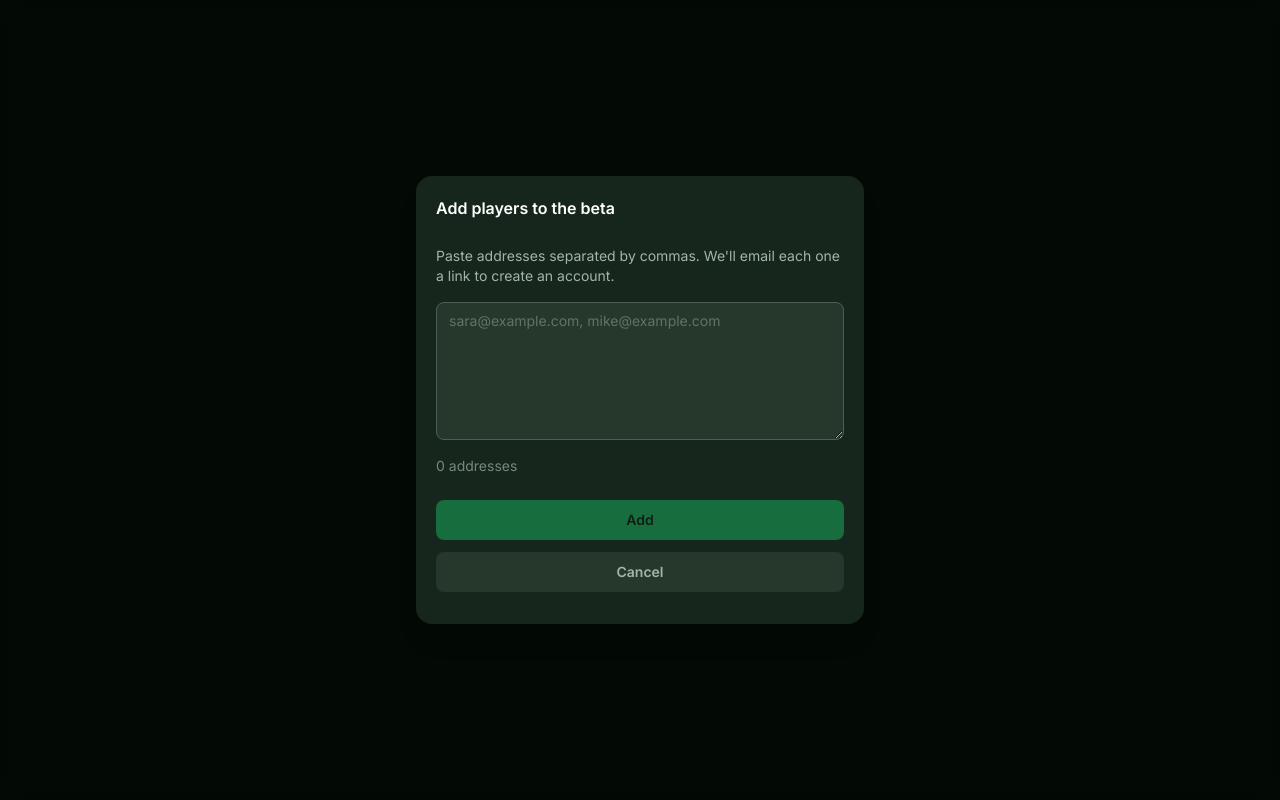
Test: Add players to the beta › emails every address it added
Step 1. Type "a@example.com, b@example.com" into the text box with placeholder "sara@example.com, mike@example.com" → (640, 371), box top-left (436, 302), bottom-right (844, 440)
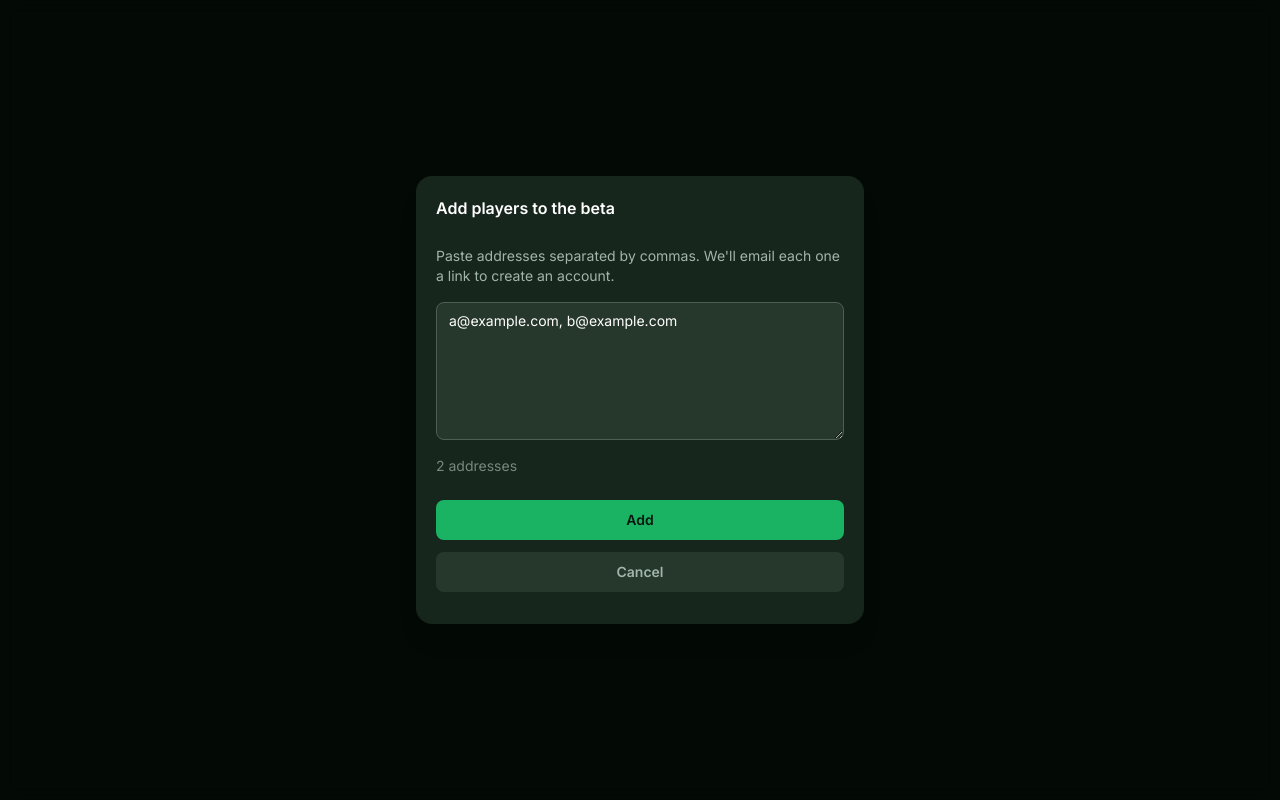
Step 2. Click the button "Add" → (640, 520), box top-left (436, 500), bottom-right (844, 540)
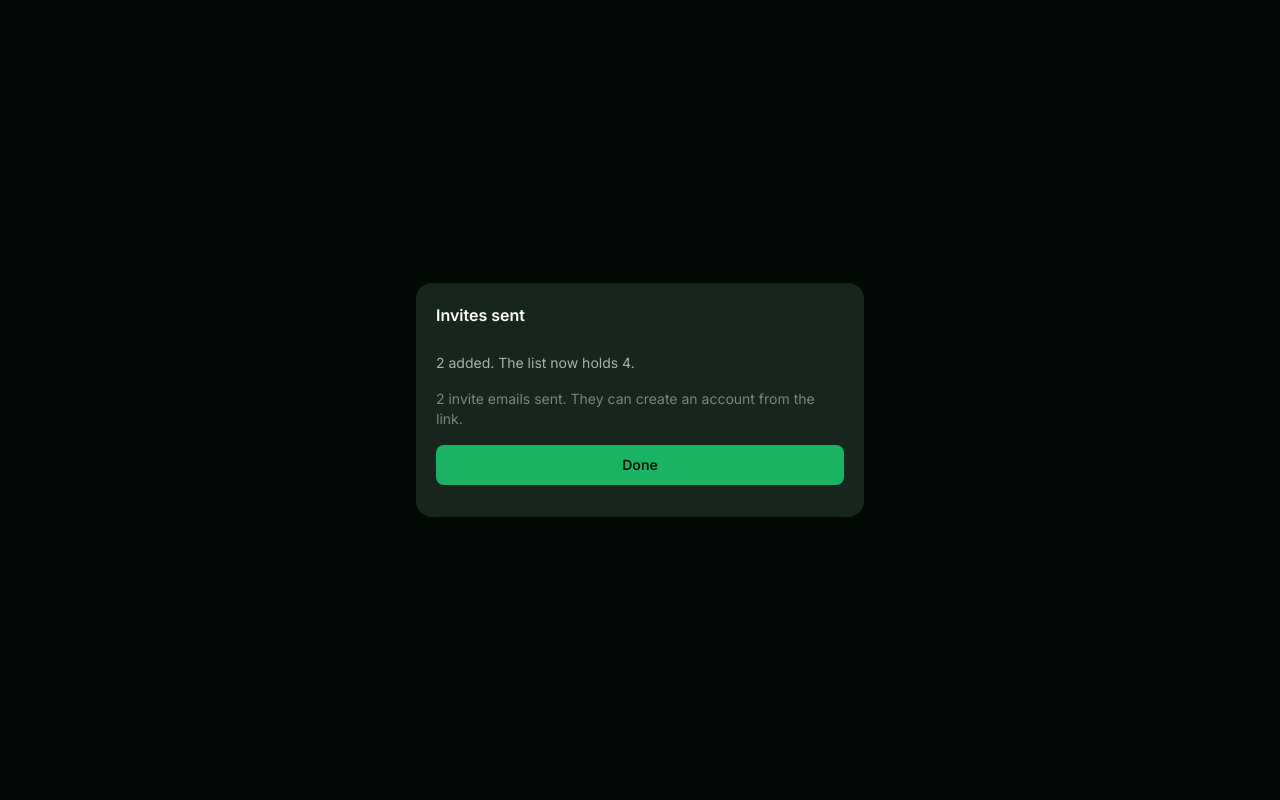
Result: the text "2 invite emails sent" is shown at top-left (436, 390), bottom-right (815, 427)
